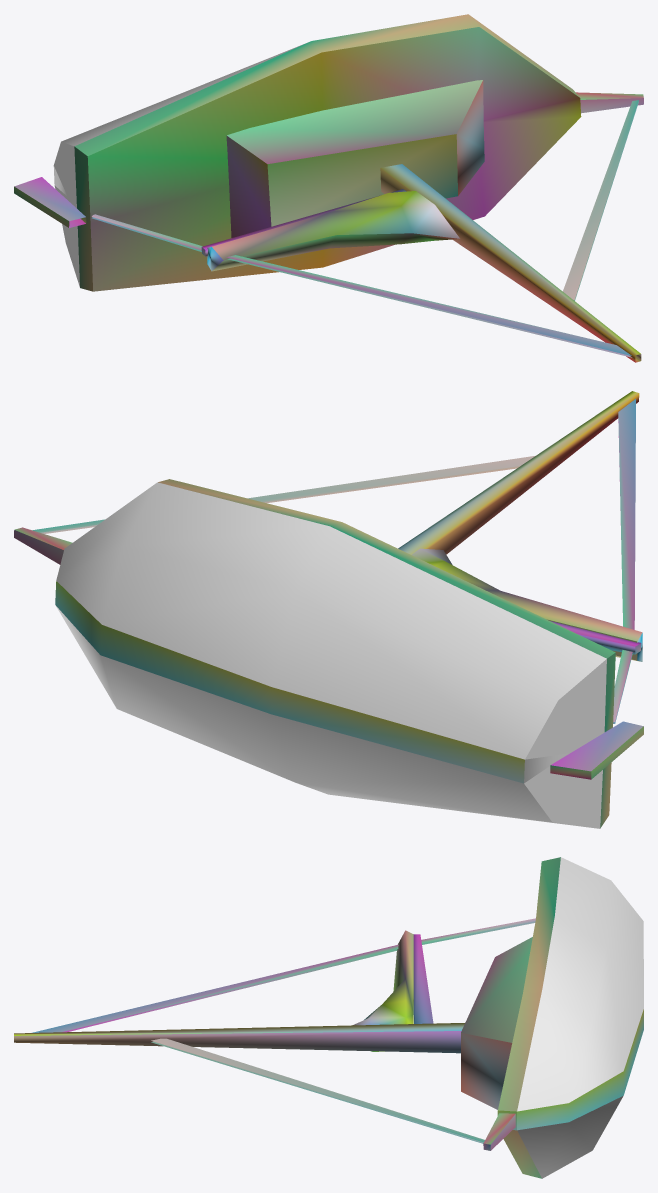
The model's file is Boat_Village_SailingDocked_lod1.glb.
3 views of the same model, one above another, from view 1: azimuth 30°, elevation 25°; view 2: azimuth 150°, elevation 25°; view 3: azimuth 270°, elevation 25° (orthographic). The views are drawn at different scales.
Visible parts, largest first — view 1: MeshNode_0, MeshNode_1; view 2: MeshNode_1, MeshNode_0; view 3: MeshNode_0, MeshNode_1.
Part boxes in pixels (x1,y1,x2,y2): MeshNode_0: (14, 14, 643, 362); MeshNode_1: (53, 42, 308, 286); MeshNode_1: (55, 482, 606, 828); MeshNode_0: (14, 391, 643, 828); MeshNode_0: (14, 857, 643, 1178); MeshNode_1: (517, 857, 643, 1178).
Size of the model in its own units: 36.35 by 13.99 by 38.4.
